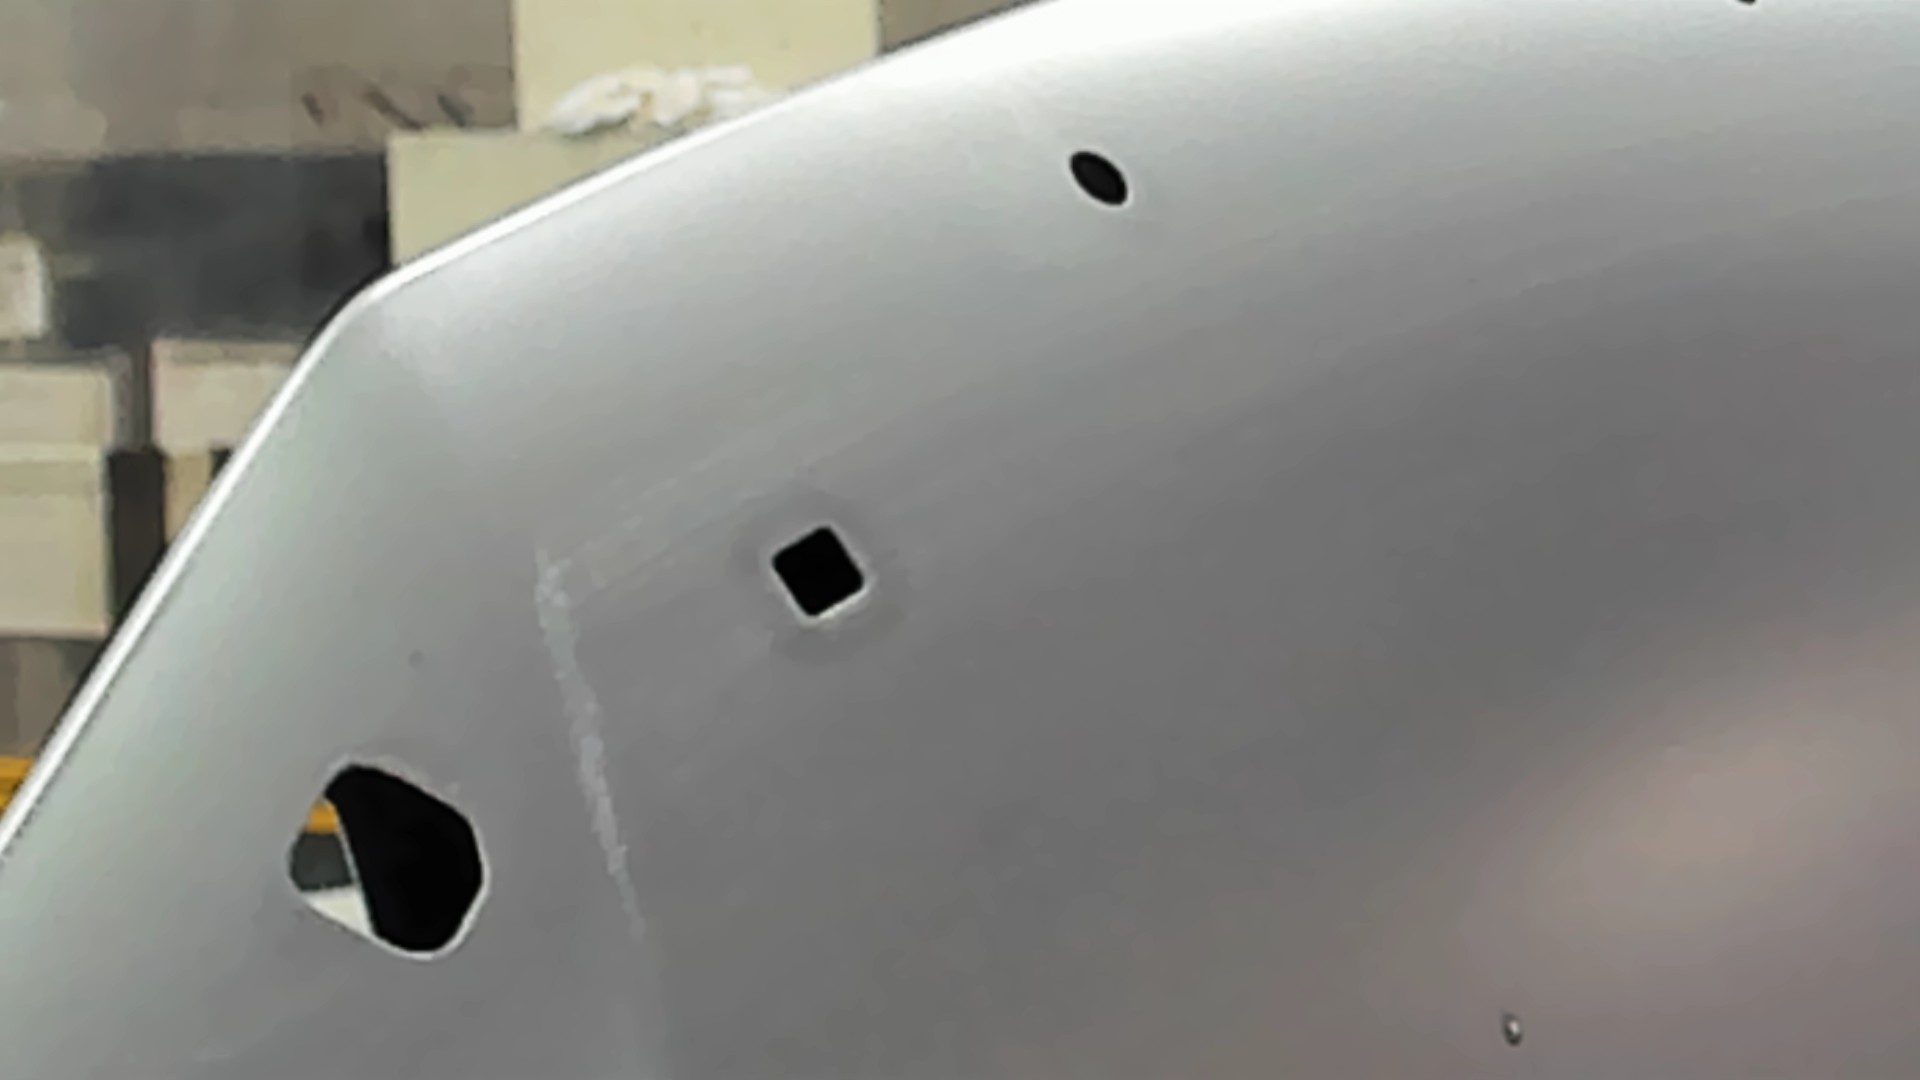capo: (876, 215, 1920, 1080)
chico: (1065, 144, 1134, 214)
grande: (280, 746, 497, 973)
mediano: (764, 520, 877, 632)
